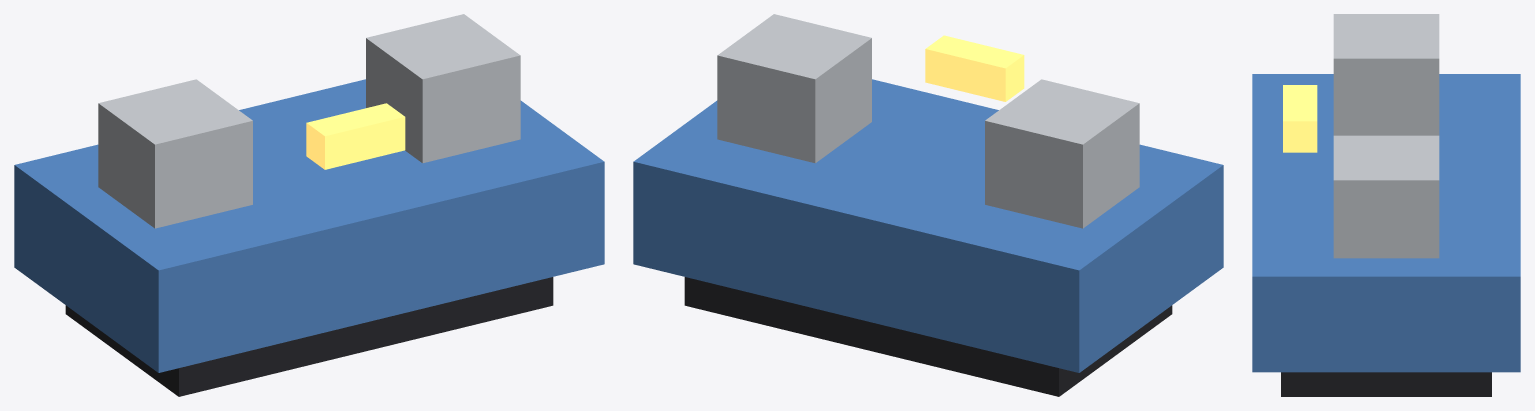
File: c2_pbr_production_asset.gltf
3 views of the same model, side by side, from view 1: azimuth 30°, elevation 25°; view 2: azimuth 150°, elevation 25°; view 3: azimuth 270°, elevation 25° (orthographic). The views are drawn at different scales.
Parts seen in each view (by area): view 1: Paint, Metal (×2), Rubber, Lamp; view 2: Paint, Metal (×2), Rubber, Lamp; view 3: Paint, Metal (×2), Rubber, Lamp.
Part boxes in pixels (bbox=[...]): Paint: bbox=[14, 79, 604, 372]; Metal (×2): bbox=[98, 14, 520, 228]; Rubber: bbox=[65, 277, 553, 396]; Lamp: bbox=[306, 103, 405, 169]; Paint: bbox=[633, 79, 1223, 372]; Metal (×2): bbox=[717, 14, 1139, 228]; Rubber: bbox=[684, 277, 1172, 396]; Lamp: bbox=[925, 35, 1024, 101]; Paint: bbox=[1252, 74, 1520, 372]; Metal (×2): bbox=[1333, 14, 1439, 258]; Rubber: bbox=[1281, 372, 1491, 396]; Lamp: bbox=[1283, 85, 1317, 152].
Size of the model in its own units: 5 by 2.47 by 2.8.
